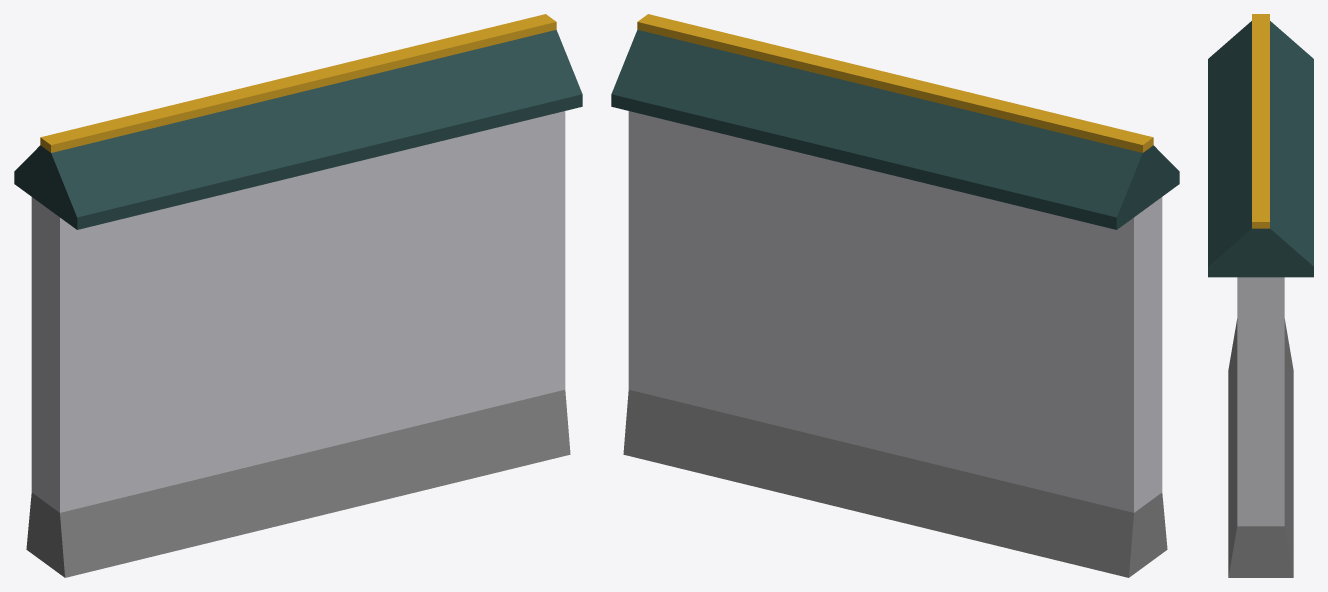
Rendered from Asian_Prop_Building_Fence_Wall_Simple_03.FBX.
3 renders of one model, left to right at view 1: azimuth 30°, elevation 25°; view 2: azimuth 150°, elevation 25°; view 3: azimuth 270°, elevation 25°, orthographic. The views are drawn at different scales.
Visible parts, largest first — view 1: Asian_Prop_Building_Fence_Wall_Simple_03; view 2: Asian_Prop_Building_Fence_Wall_Simple_03; view 3: Asian_Prop_Building_Fence_Wall_Simple_03.
Part boxes in pixels (box(x1,y1,x2,y2)): Asian_Prop_Building_Fence_Wall_Simple_03: box(14, 14, 582, 577); Asian_Prop_Building_Fence_Wall_Simple_03: box(611, 14, 1179, 577); Asian_Prop_Building_Fence_Wall_Simple_03: box(1208, 14, 1313, 577).
Bounding box in the file's own units: 5167 × 4128 × 1112.
